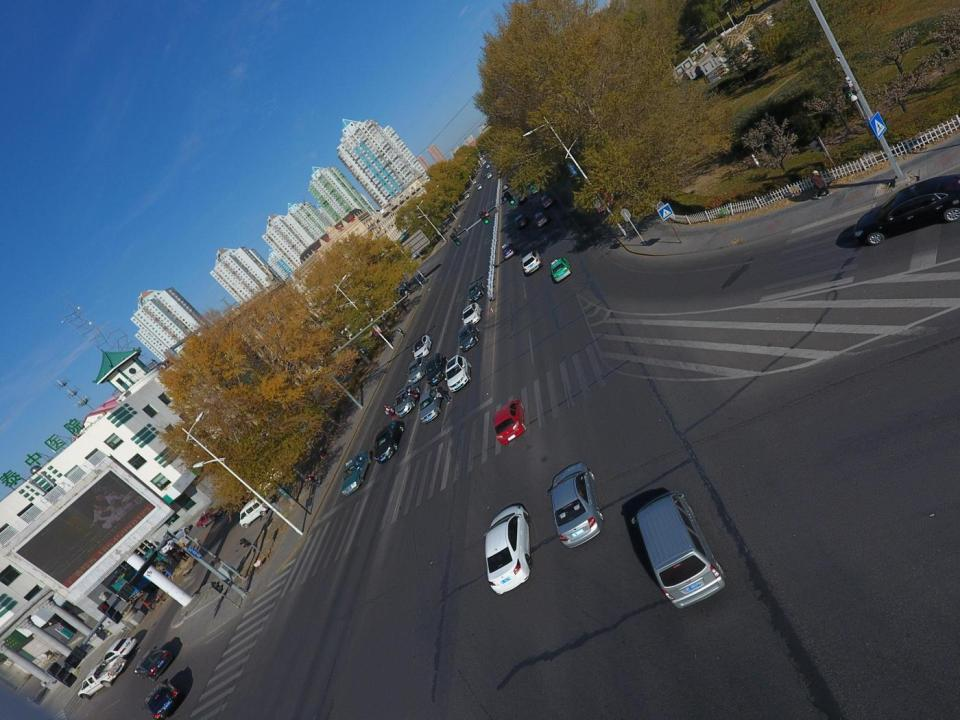car: (851, 174, 960, 244), (484, 503, 536, 593), (550, 462, 602, 550), (492, 398, 527, 446), (143, 680, 183, 720), (340, 450, 372, 496), (134, 648, 174, 682), (374, 420, 404, 463), (100, 636, 137, 665), (445, 355, 472, 393), (395, 383, 420, 418), (420, 386, 443, 424), (161, 527, 189, 554), (196, 505, 226, 529), (427, 353, 448, 386), (458, 322, 480, 352), (521, 250, 543, 276), (550, 256, 572, 282), (408, 355, 427, 383), (414, 334, 434, 358), (463, 302, 482, 326), (468, 280, 485, 304), (345, 348, 366, 362), (515, 213, 530, 229), (502, 242, 516, 259), (535, 211, 549, 227), (390, 284, 407, 297), (541, 194, 553, 209), (411, 248, 422, 260), (517, 195, 527, 206), (530, 185, 540, 194), (501, 195, 508, 203), (464, 194, 470, 200), (487, 172, 492, 178), (472, 180, 476, 185), (488, 160, 492, 164), (486, 165, 490, 168)
truck: (112, 547, 170, 602), (78, 656, 127, 700)
van: (635, 490, 725, 610), (240, 495, 272, 529), (502, 183, 508, 191), (477, 183, 482, 191), (483, 173, 487, 177)
